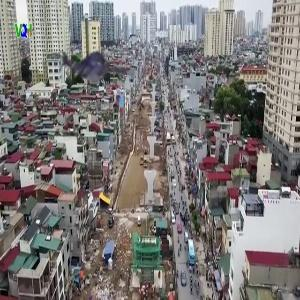drone: (43, 23, 140, 120)
